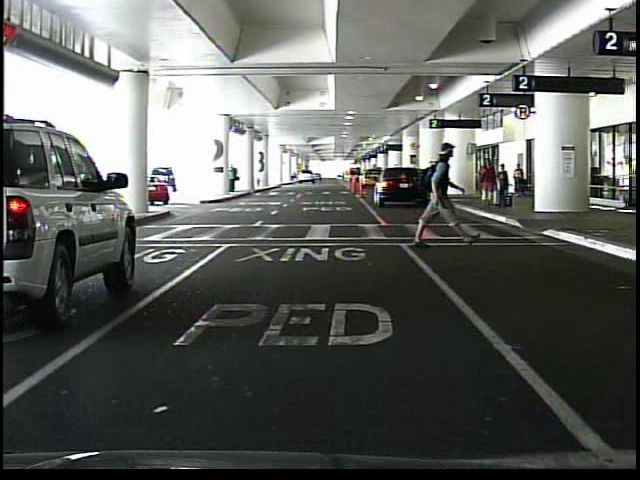person: (407, 142, 482, 249), (475, 158, 498, 204), (498, 162, 513, 207), (514, 162, 524, 195), (229, 164, 239, 194)
